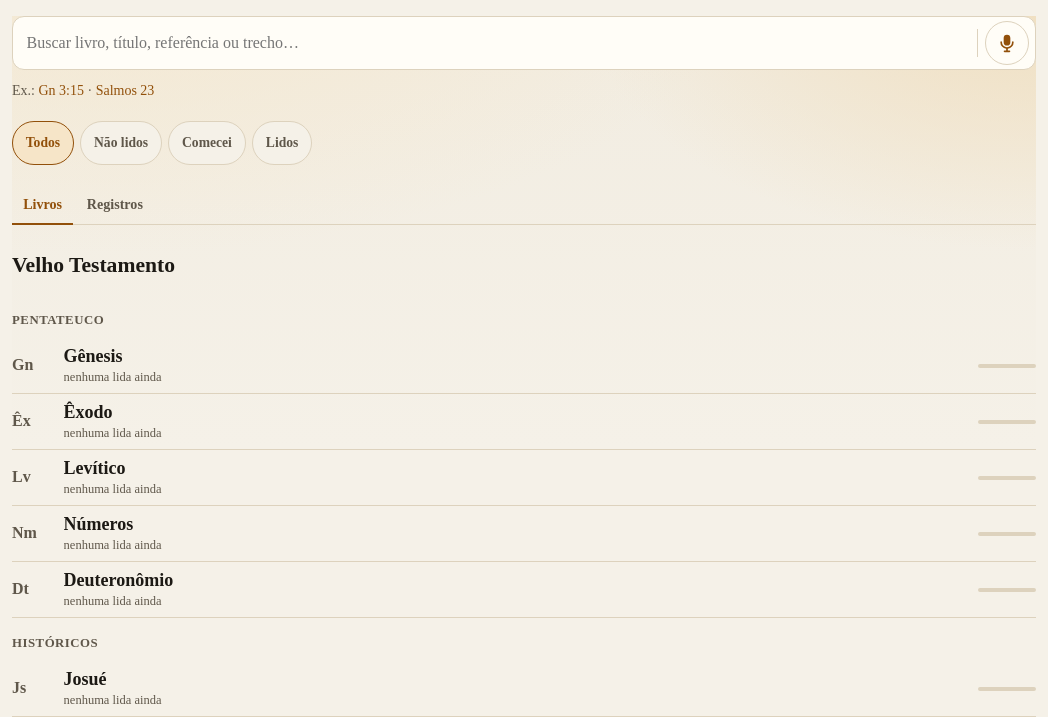
Test: Explorar — ditado no campo de referência › ditar duas vezes substitui, não emenda as duas referências
The image size is (1048, 717).
What coordinates should you click on to do the following:
click the button with class "ditar-botao"
I would click on:
 (1007, 43)
Its box is [985,21,1029,65].
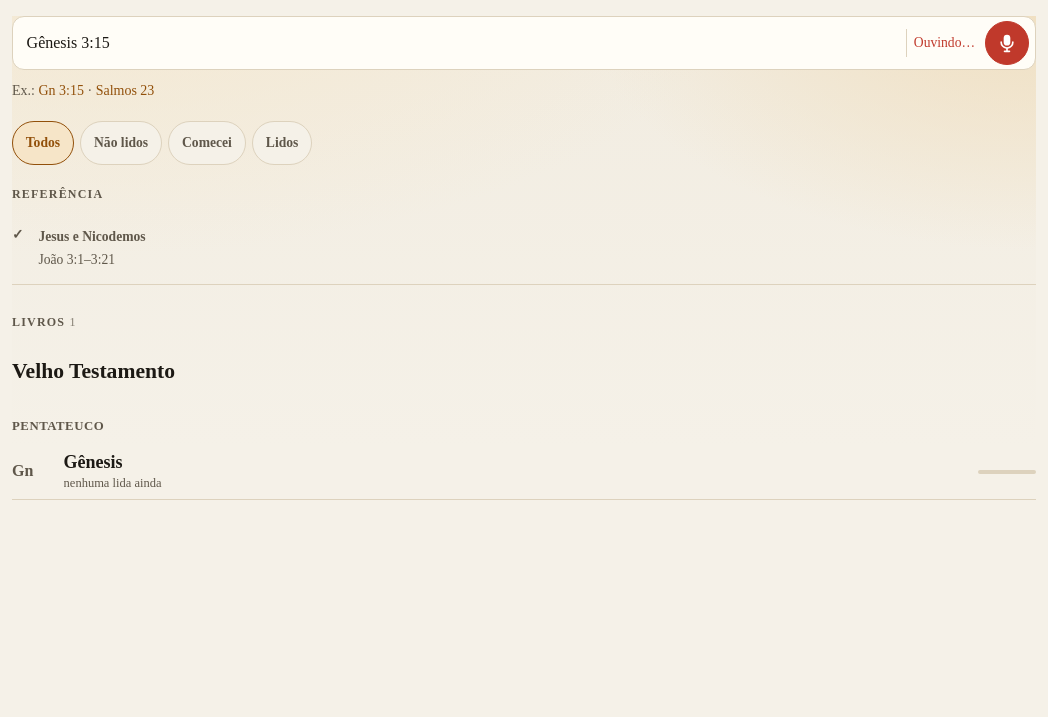
What coordinates should you click on to do the following:
click the button with class "ditar-botao"
I would click on:
 (1007, 43)
Its box is [985,21,1029,65].
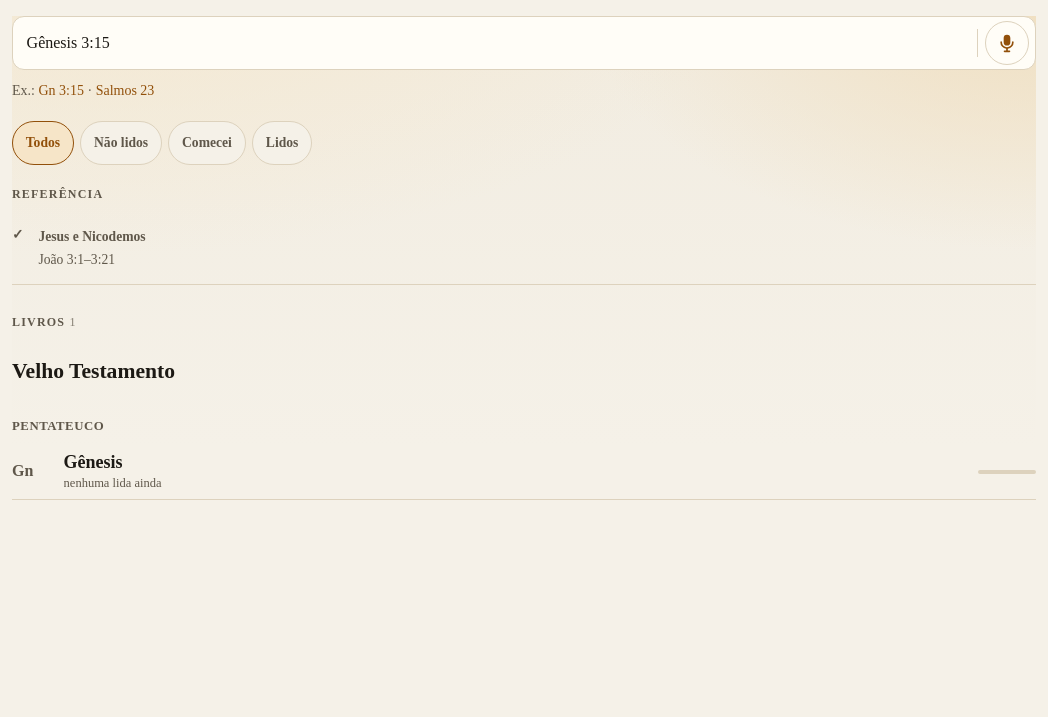
What coordinates should you click on to do the following:
click the button with class "ditar-botao"
I would click on:
 (1007, 43)
Its box is [985,21,1029,65].
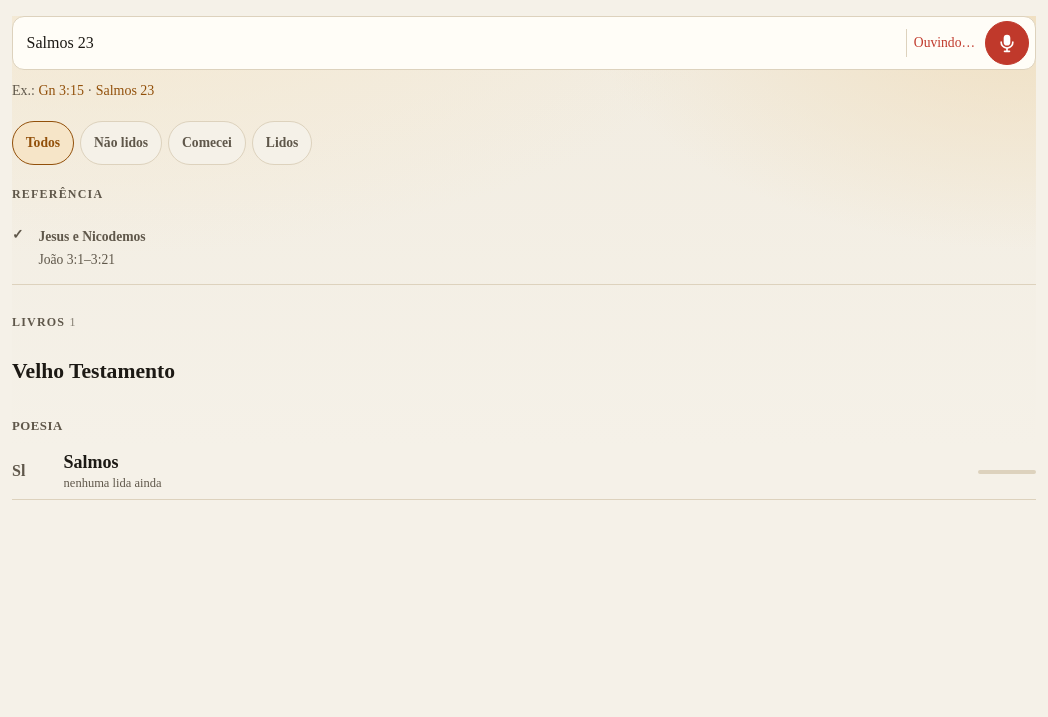
Expected: the search field named "Buscar livro, título, referência ou trecho" holds "Salmos 23", [17,17,900,69]
